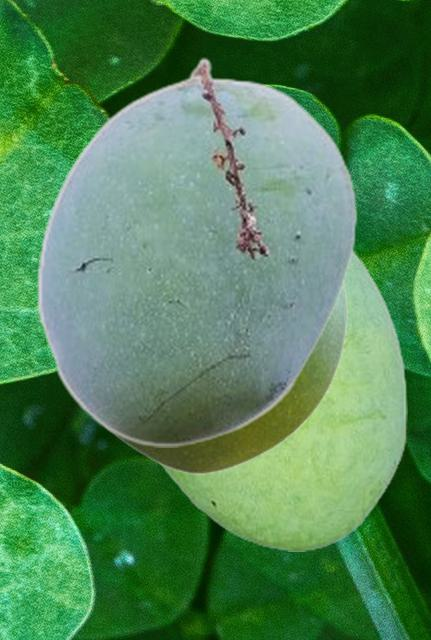green_mango: (36, 57, 357, 446), (154, 245, 406, 550), (103, 277, 346, 473)
